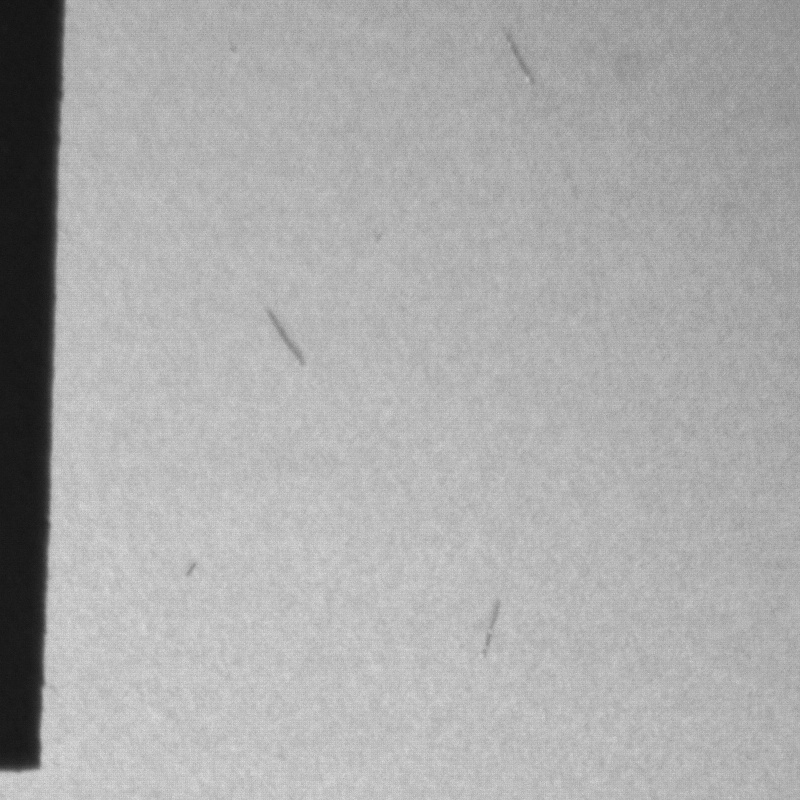defect: (269, 309, 309, 368), (505, 33, 538, 85), (479, 600, 497, 664), (185, 560, 199, 586)
